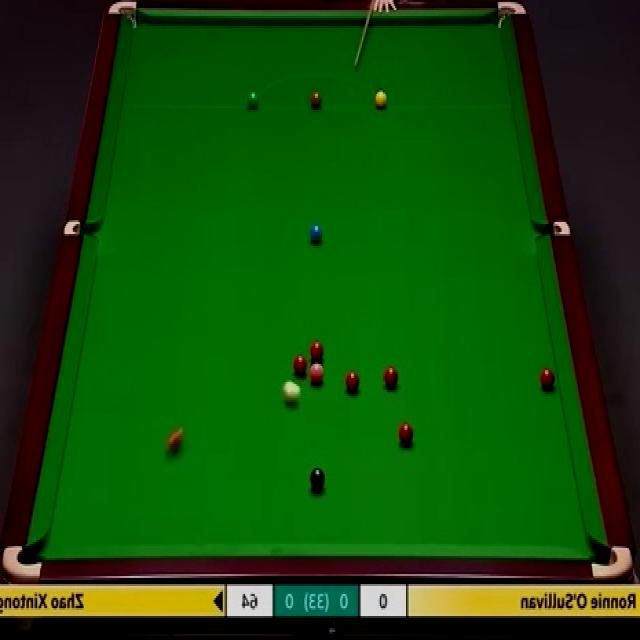black-ball: (309, 468, 325, 491)
blue-ball: (310, 225, 322, 244)
brown-ball: (310, 89, 322, 109)
green-ball: (245, 90, 260, 110)
pink-ball: (308, 364, 324, 387)
red-ball: (164, 423, 184, 458), (292, 354, 308, 378), (383, 365, 398, 390), (344, 371, 360, 394), (398, 422, 414, 444), (539, 369, 554, 390), (310, 341, 324, 362)
white-ball: (281, 379, 302, 408)
yellow-ball: (375, 88, 388, 110)
